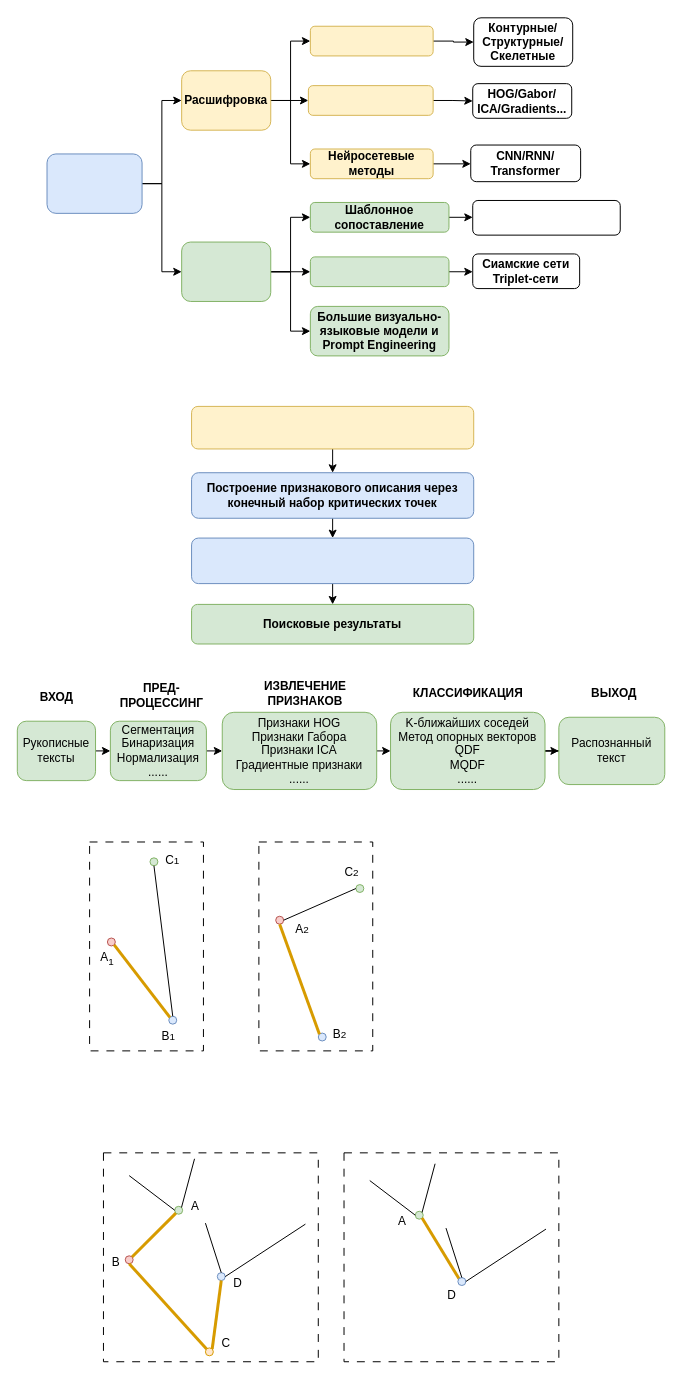
Image size: 682x1379. Some labels were removed from this diagram. The shapes that lost their labels are listed below. From the top down, each one's centre as x and y in pixels, then its label:
the point at 371,40: Традиционные методы
the point at 370,100: Статистические методы
the point at 94,183: Методы распознавания текстов
the point at 546,217: Корреляционные меры/ Контуры/Топология
the point at 226,271: Поиск
the point at 379,271: Метрические методы
the point at 332,427: Входные иероглифы-изображения
the point at 332,560: Вычисление меры сходства через оптимизационную задачу назначений
